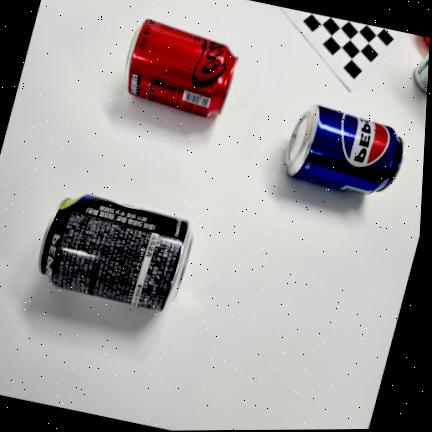can_coke_zero: (125, 19, 238, 118)
can_pepsi: (286, 105, 404, 195)
can_pepsi_zero: (38, 194, 193, 311)
